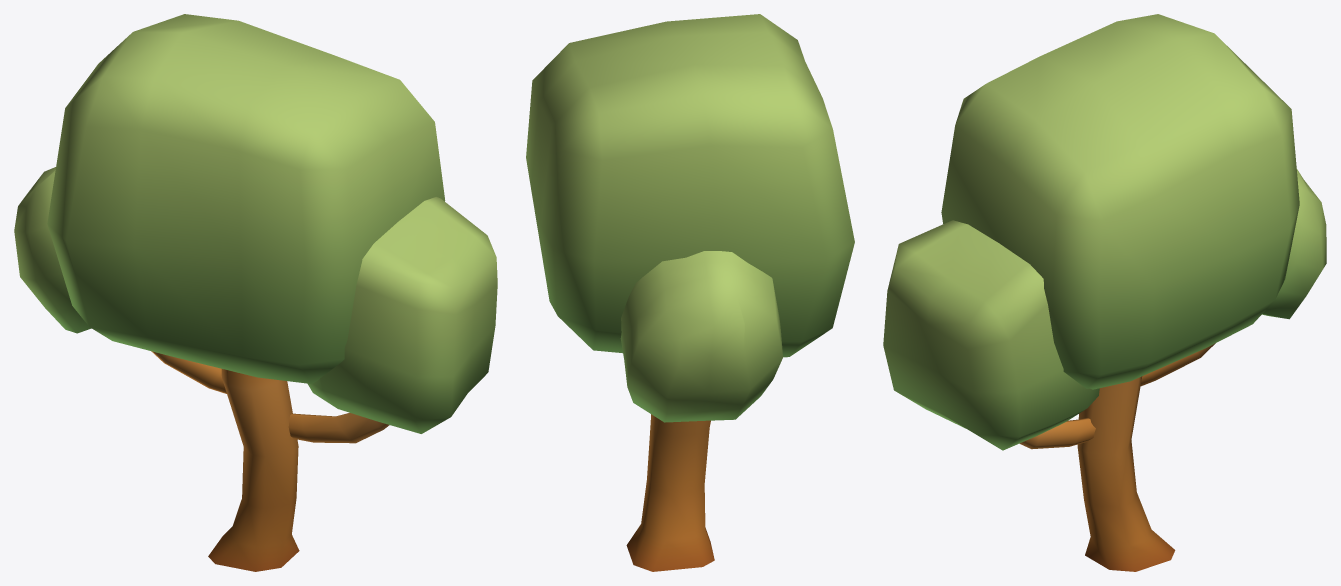
Rendered from Forest_Tree1 1.fbx.
3 renders of one model, left to right at view 1: azimuth 30°, elevation 25°; view 2: azimuth 150°, elevation 25°; view 3: azimuth 270°, elevation 25°, orthographic. The views are drawn at different scales.
Visible parts, largest first — view 1: Cube.011; view 2: Cube.011; view 3: Cube.011.
Part boxes in pixels (box(x1,y1,x2,y2)): Cube.011: box(14, 14, 497, 571); Cube.011: box(526, 14, 854, 571); Cube.011: box(883, 14, 1326, 571).
Bounding box in the file's own units: 447 × 622 × 509.
